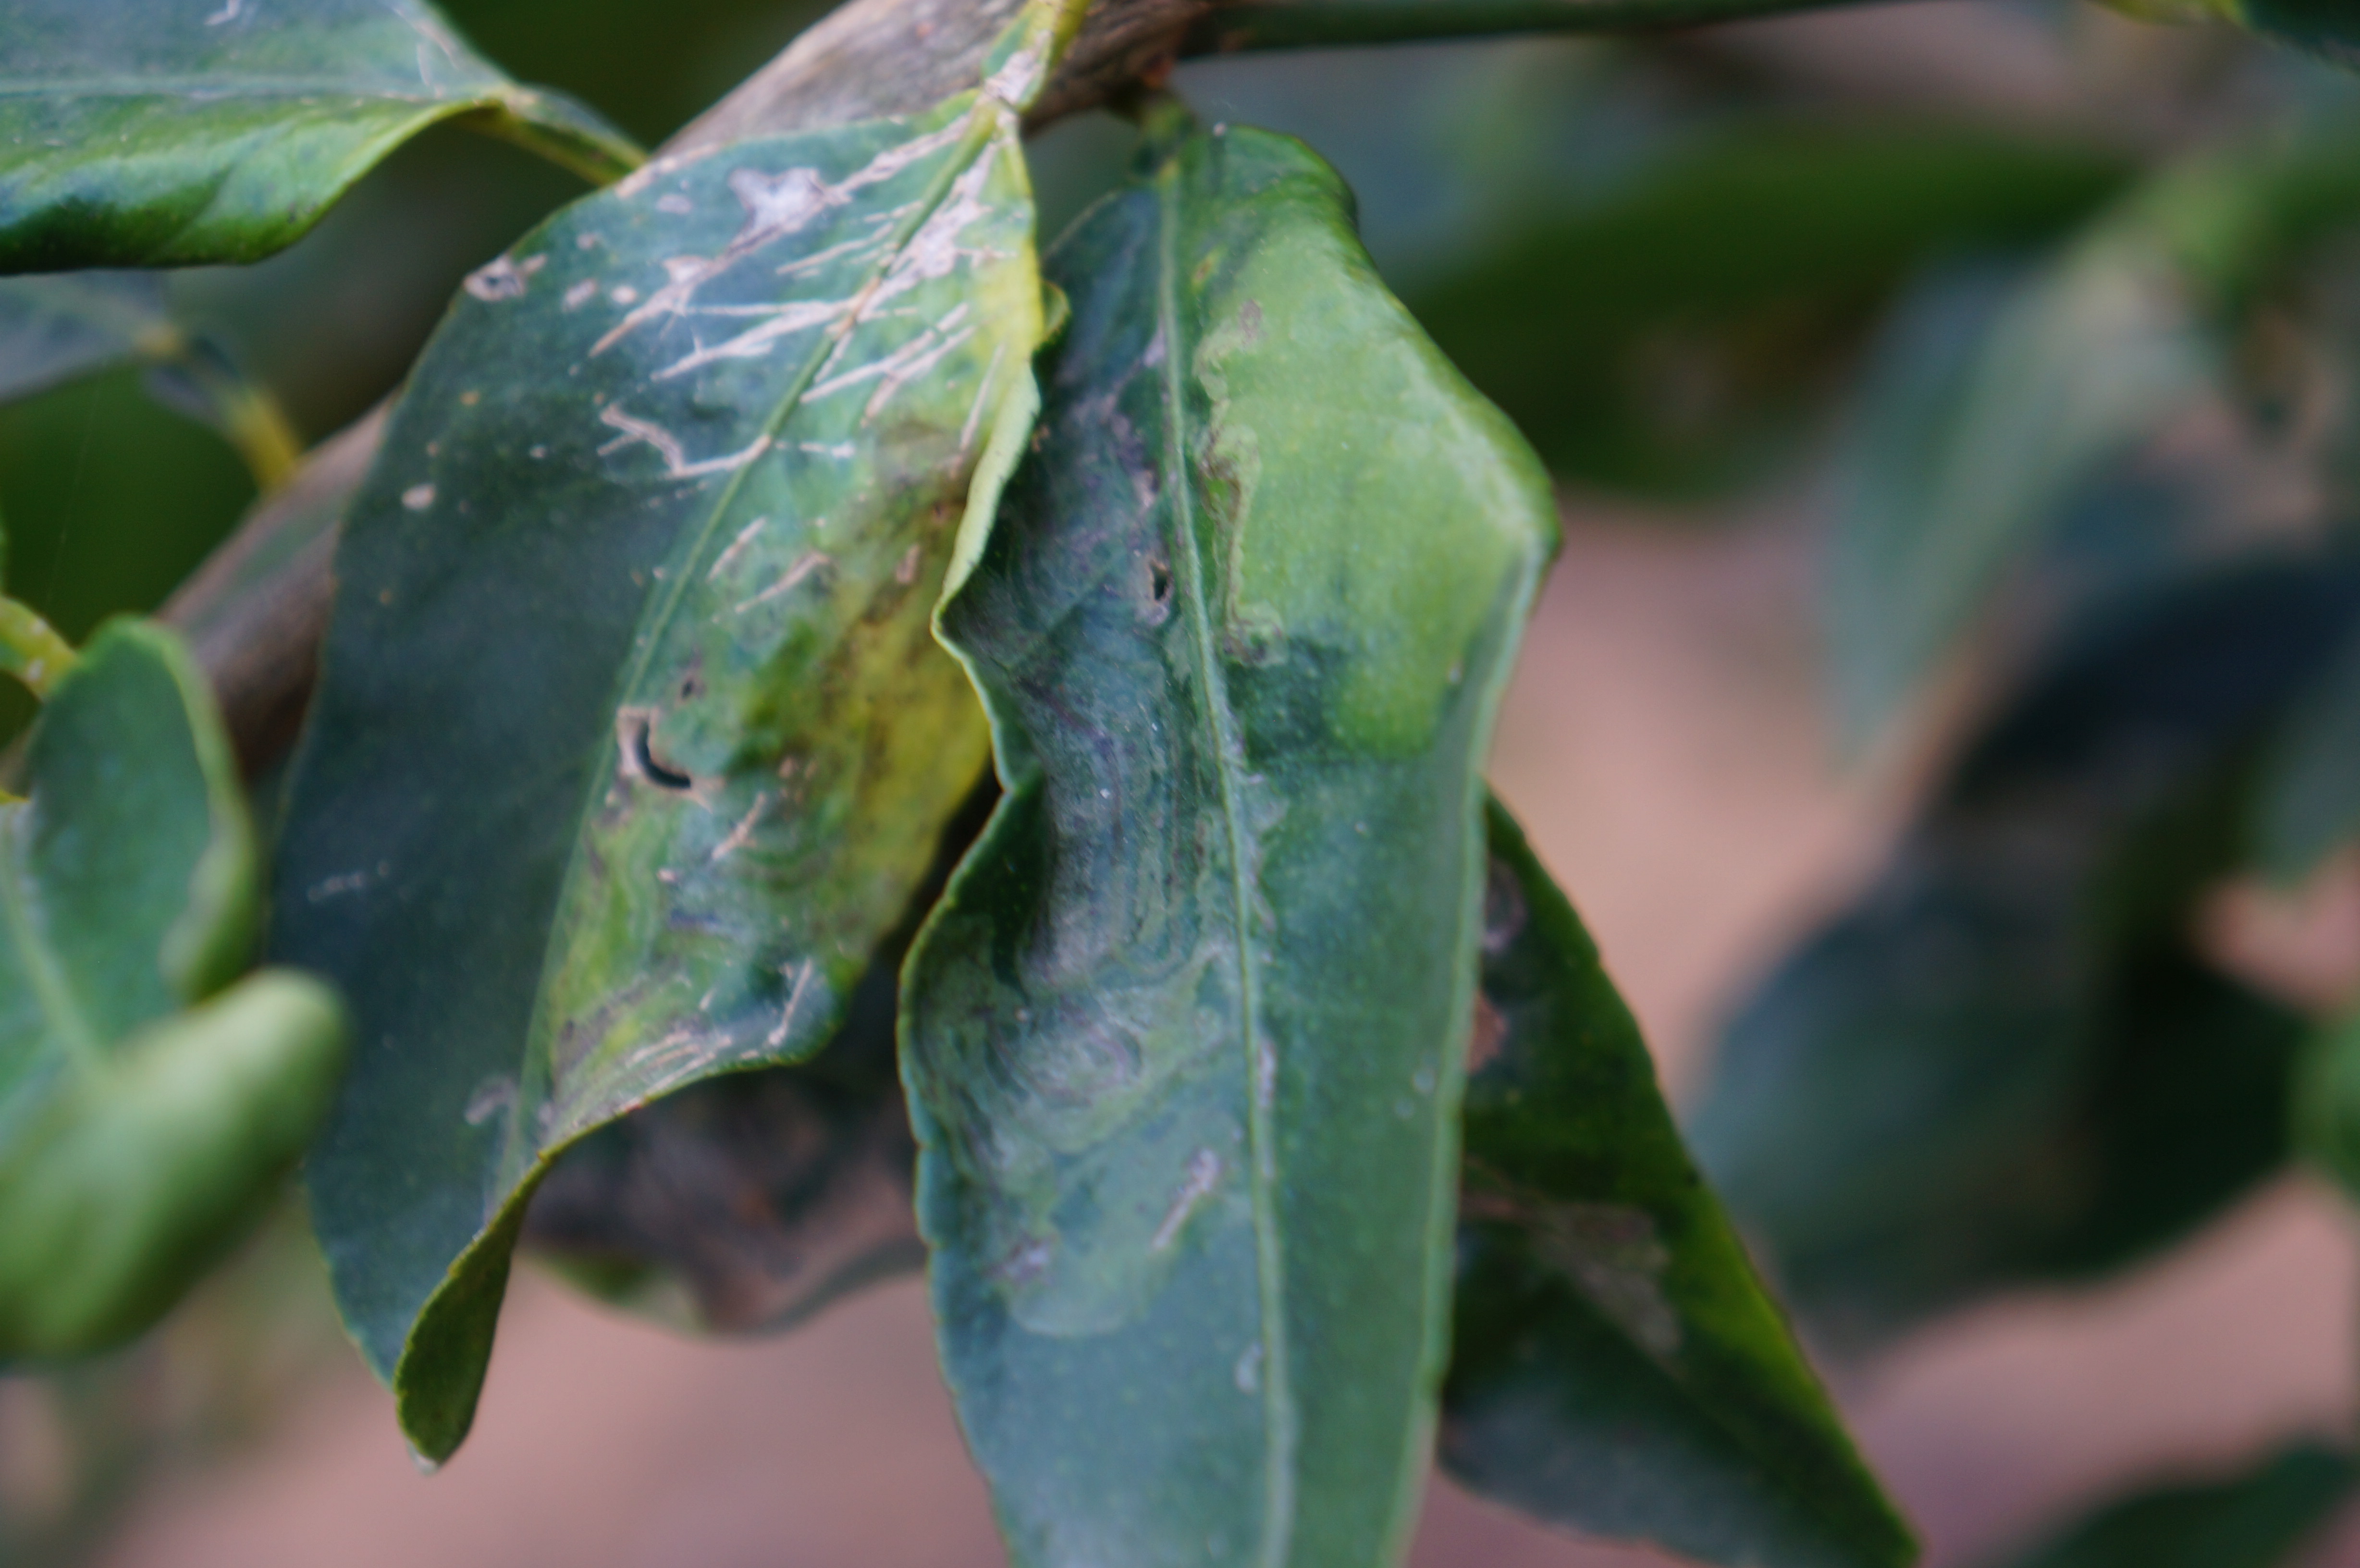damage: (897, 168, 1212, 1358)
